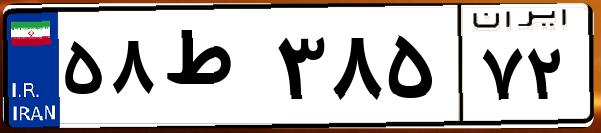2: (525, 38, 570, 115)
3: (270, 28, 330, 110)
5: (385, 28, 445, 110), (57, 26, 110, 100)
7: (475, 38, 525, 113)
8: (330, 28, 385, 110), (110, 28, 158, 98)
ط: (158, 20, 270, 120)
